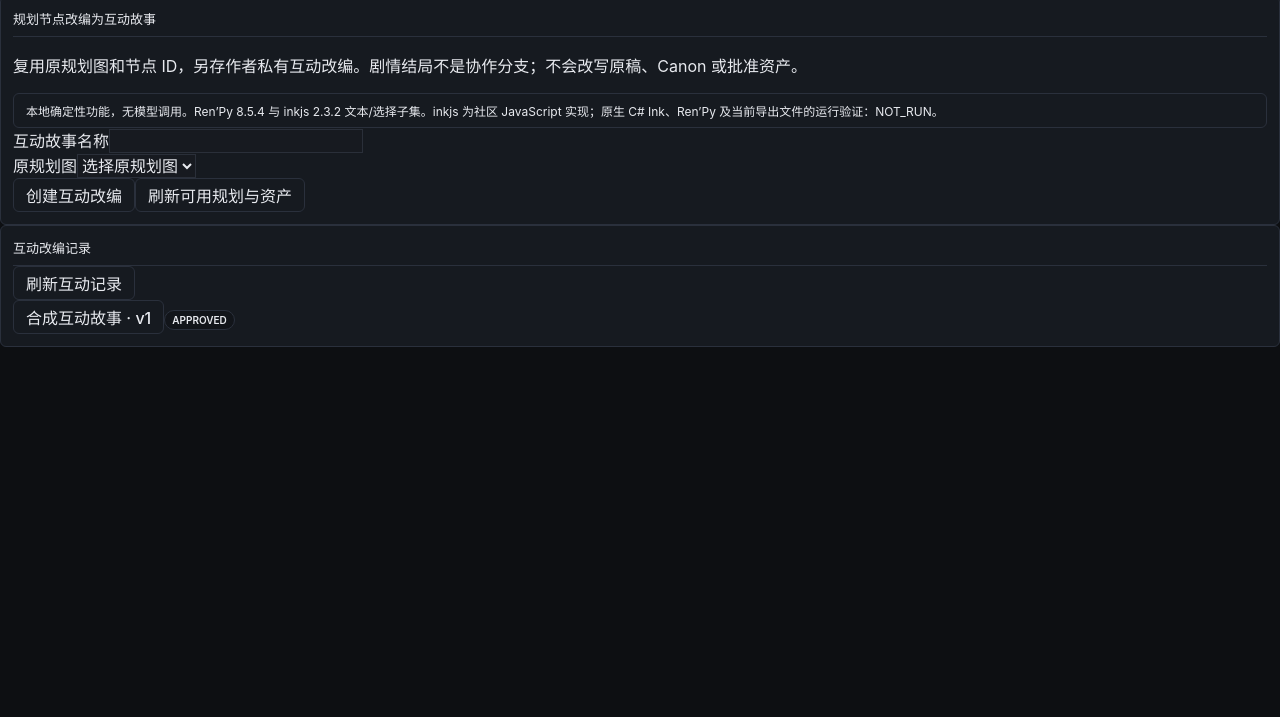
it: locates the editor at the played ending node without editing or saving anything
Click the button "合成互动故事 · v1" at (89, 317), box 13,300 -> 164,334
(page scrolled)
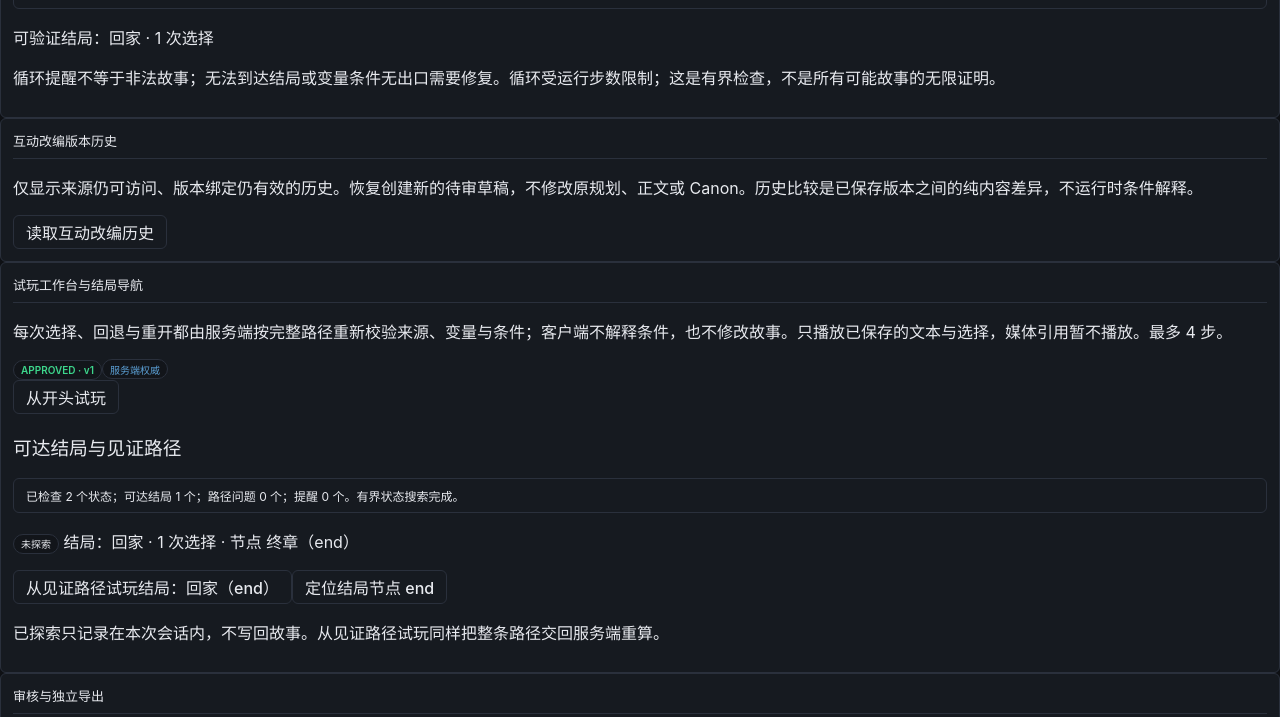
Click the button "从开头试玩" at (66, 397), box 13,380 -> 119,414
(page scrolled)
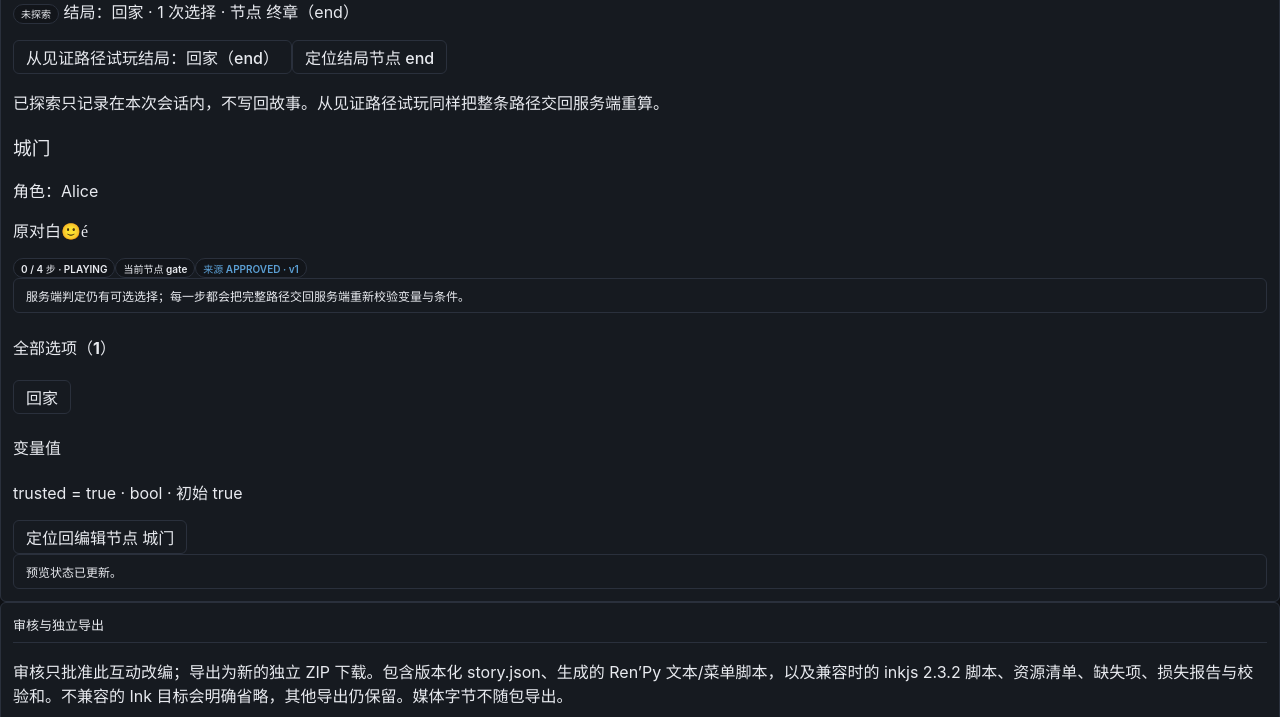
Click the button "回家" at (42, 397), box 13,380 -> 71,414
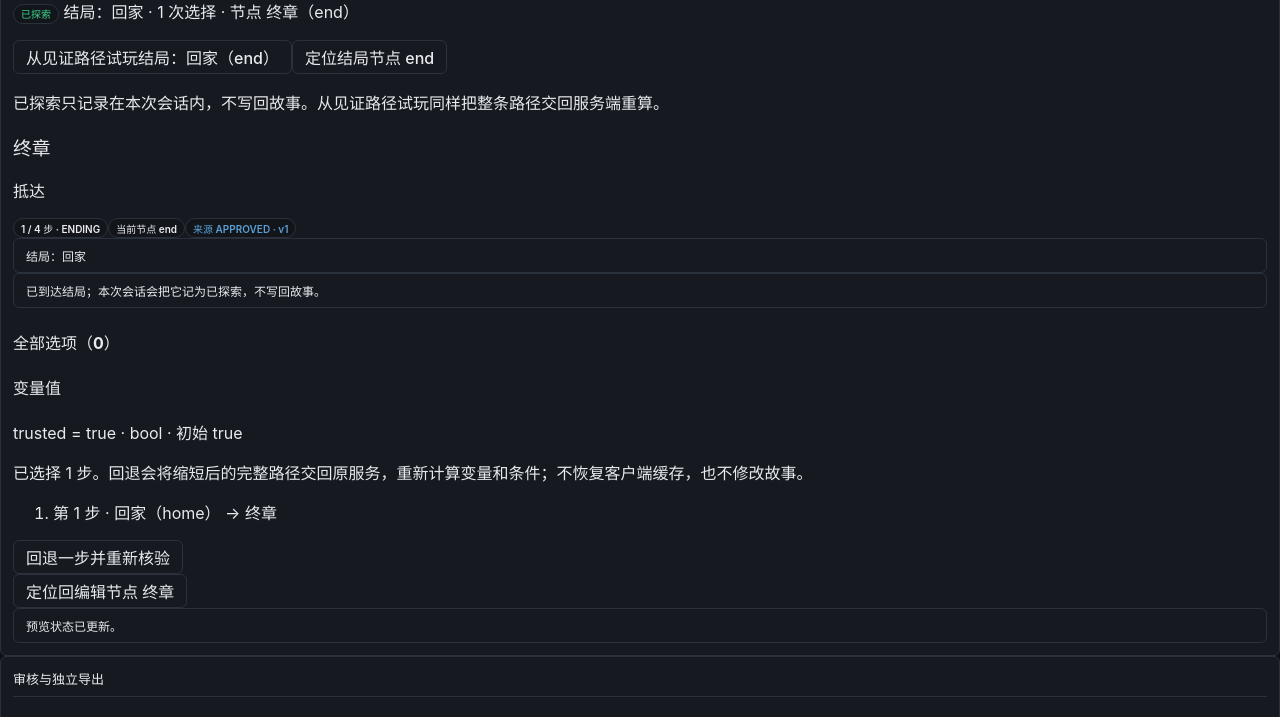
Expected: the text "结局：回家" is shown, 13,238 -> 1267,273
Click the button "定位回编辑节点 终章" at (100, 591), box 13,574 -> 187,608
(page scrolled)
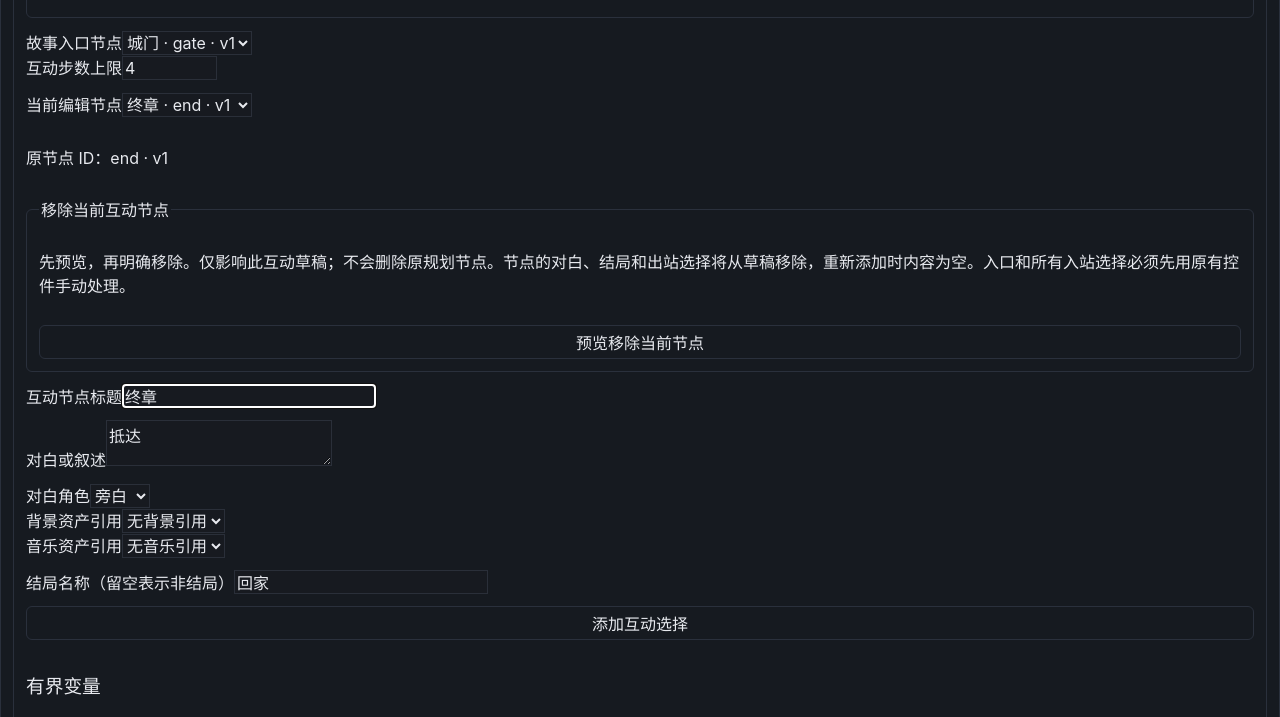
Expected: the dropdown labelled "当前编辑节点" shows "终章 · end · v1", 122,93 -> 252,117
Expected: the field labelled "互动节点标题" holds "终章", 122,384 -> 376,408
